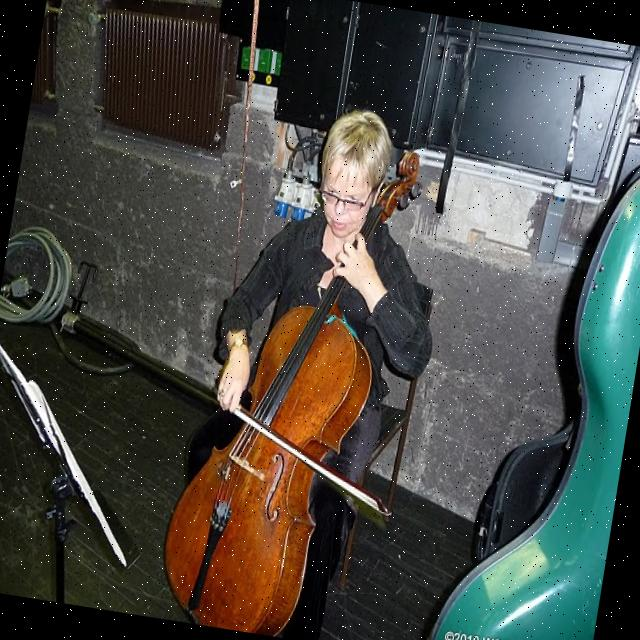cello: (154, 123, 427, 640)
